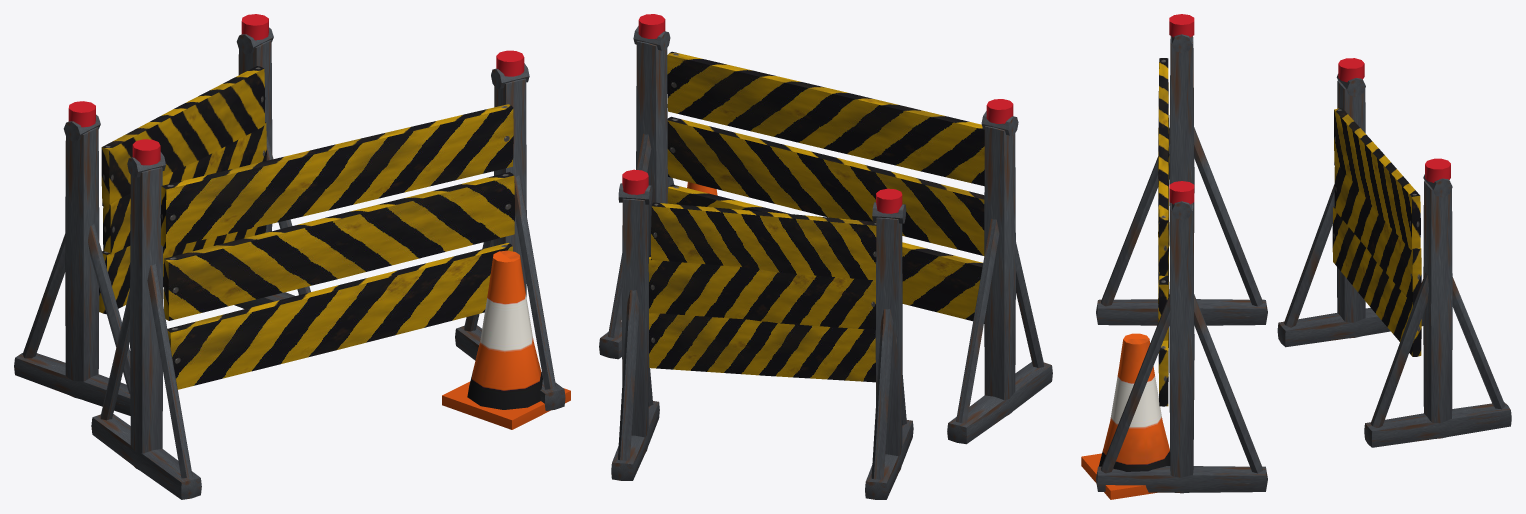
Rendered from prop_soft_barrier.glb.
3 views of the same model, side by side, from view 1: azimuth 30°, elevation 25°; view 2: azimuth 150°, elevation 25°; view 3: azimuth 270°, elevation 25° (orthographic). The views are drawn at different scales.
Parts seen in each view (by area): view 1: prop_soft_barrier_body; view 2: prop_soft_barrier_body; view 3: prop_soft_barrier_body.
Boxes of the visible parts, x1=… form: prop_soft_barrier_body: x1=14, y1=14, x2=570, y2=499; prop_soft_barrier_body: x1=599, y1=14, x2=1052, y2=499; prop_soft_barrier_body: x1=1081, y1=14, x2=1511, y2=499.
Size of the model in its own units: 0.8589 by 0.66 by 0.8502.
1 material, 1 textured.
